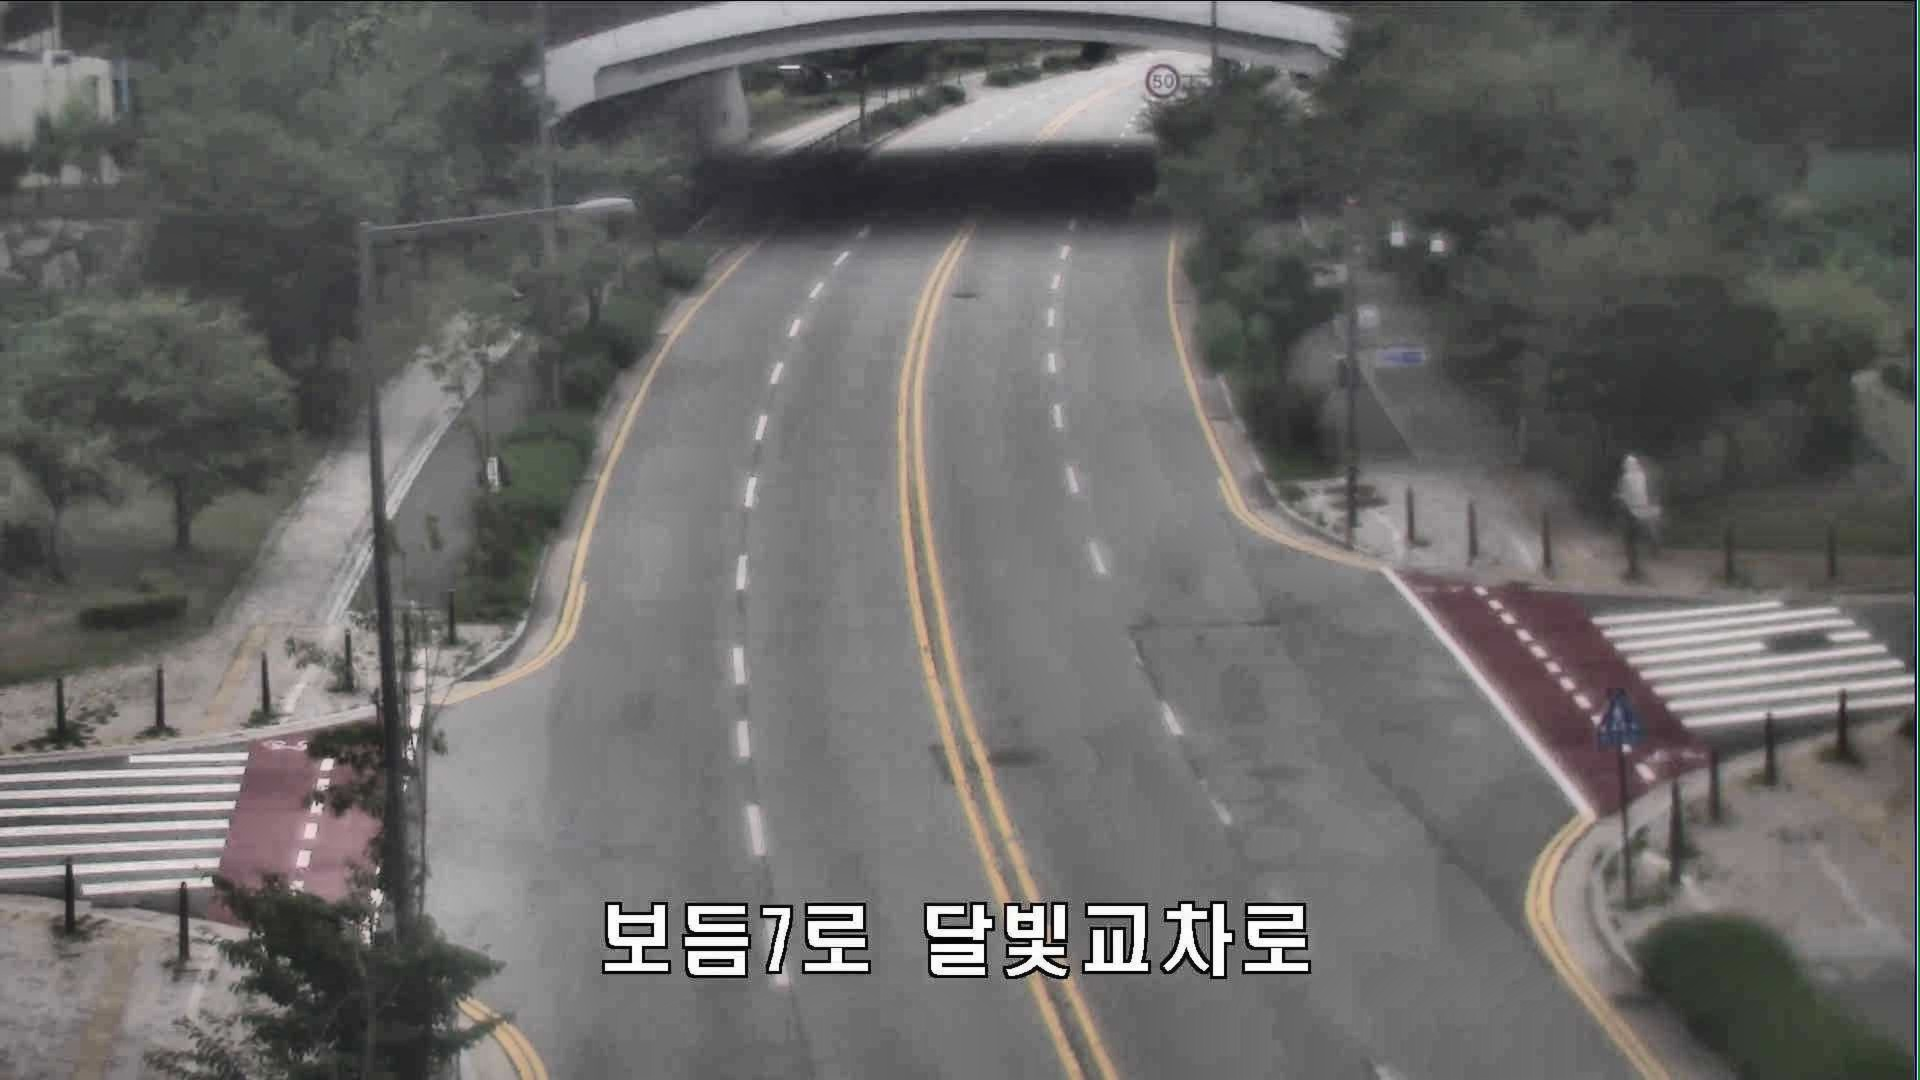sidewalk: (1617, 436, 1668, 583)
